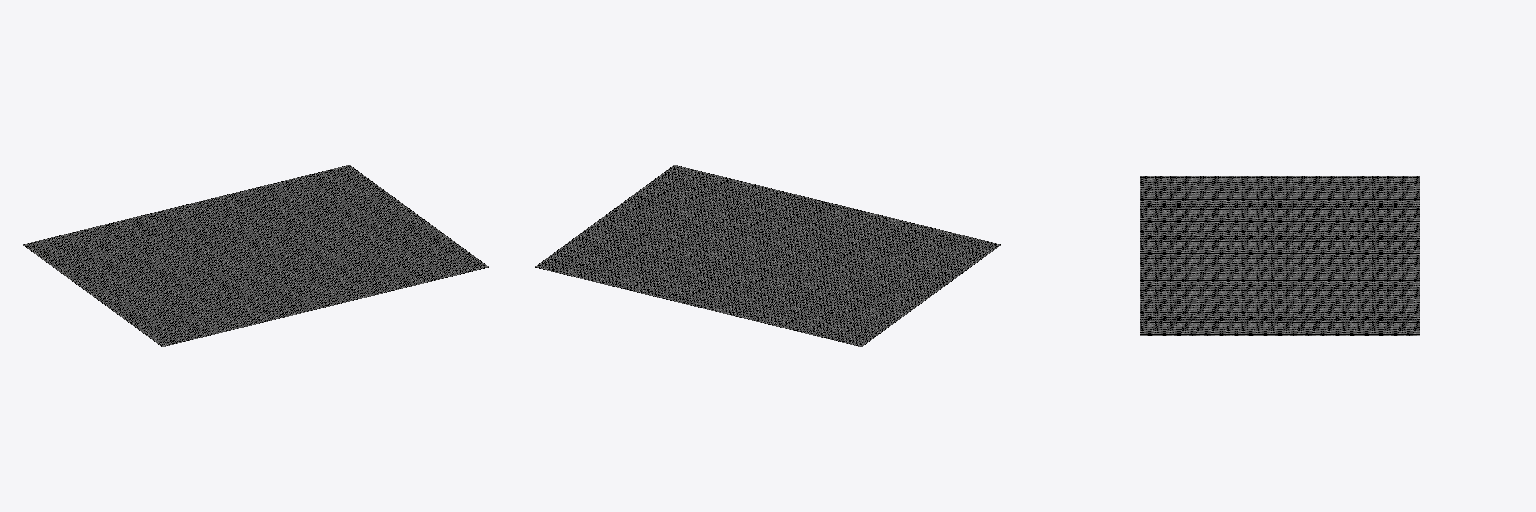
The picture shows the model from 3 angles: view 1: azimuth 30°, elevation 25°; view 2: azimuth 150°, elevation 25°; view 3: azimuth 270°, elevation 25°; orthographic projection.
Parts seen in each view (by area): view 1: Quad_0; view 2: Quad_0; view 3: Quad_0.
Part boxes in pixels (x1,y1,x2,y2): Quad_0: (23,165,488,346); Quad_0: (535,165,1000,346); Quad_0: (1140,176,1419,335).
Bounding box in the file's own units: 82.03 × 0 × 60.83.
1 materials, 1 textured.